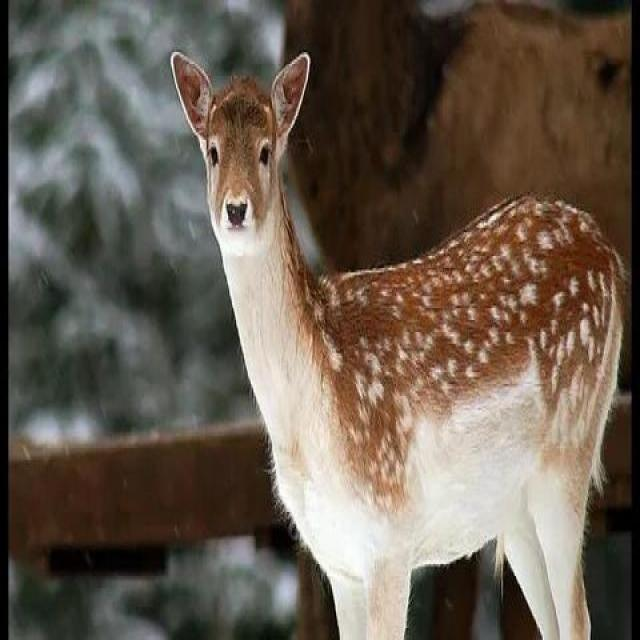deer: (152, 57, 640, 640)
